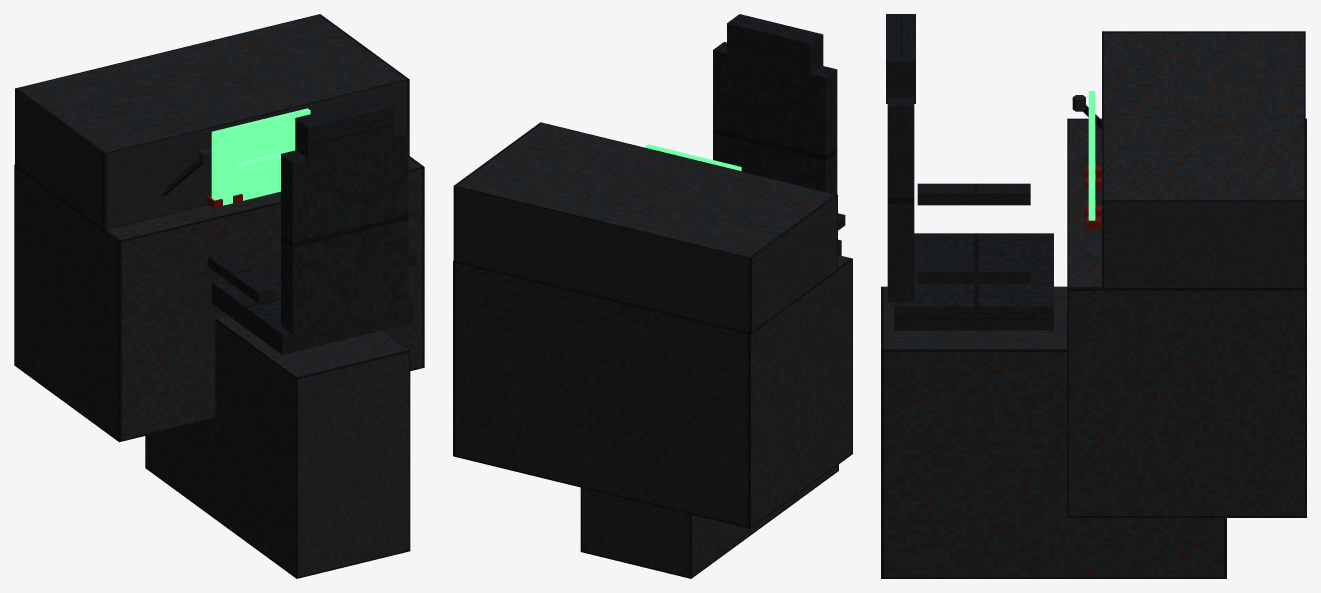
Rendered from bridge_console_desk_command_bridge.glb.
3 renders of one model, left to right at view 1: azimuth 30°, elevation 25°; view 2: azimuth 150°, elevation 25°; view 3: azimuth 270°, elevation 25°, orthographic. The views are drawn at different scales.
Visible parts, largest first — view 1: bridge_console_desk_command_bridge; view 2: bridge_console_desk_command_bridge; view 3: bridge_console_desk_command_bridge.
Boxes of the visible parts, x1=… form: bridge_console_desk_command_bridge: x1=14, y1=14, x2=424, y2=578; bridge_console_desk_command_bridge: x1=453, y1=14, x2=852, y2=578; bridge_console_desk_command_bridge: x1=881, y1=14, x2=1306, y2=578.
Bounding box in the file's own units: 1.21 × 1.69 × 1.28.
Materials: 6 (6 with a texture image).
